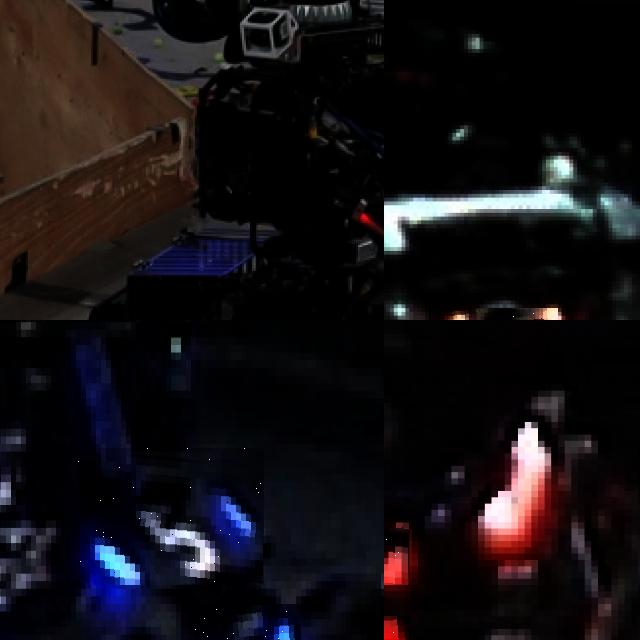B5: (78, 448, 264, 585), (181, 603, 301, 640)
Rs: (448, 308, 557, 320)
